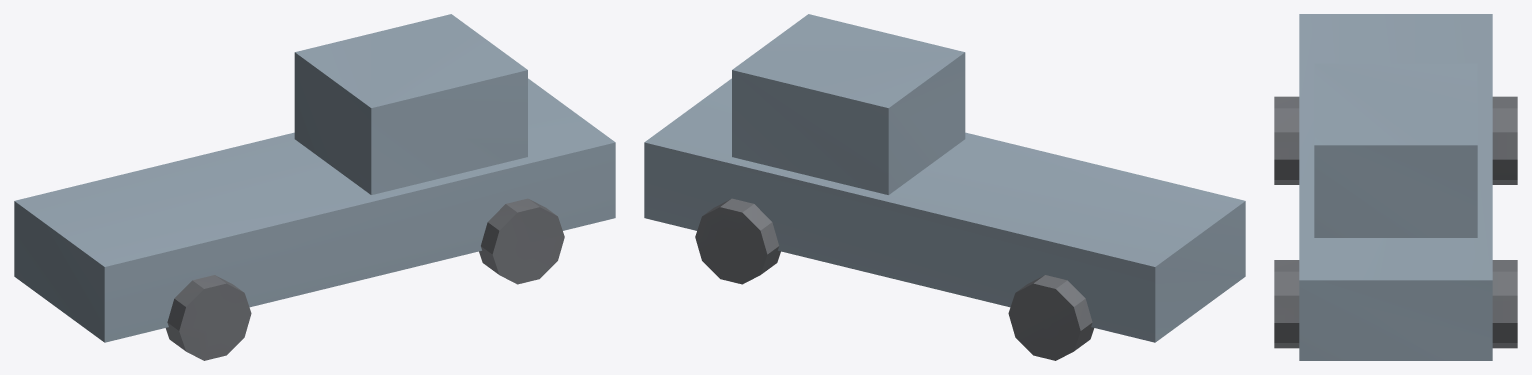
The model's file is road_vehicle-05.glb.
The picture shows the model from 3 angles, left to right: view 1: azimuth 30°, elevation 25°; view 2: azimuth 150°, elevation 25°; view 3: azimuth 270°, elevation 25°; orthographic projection. The views are drawn at different scales.
Visible parts, largest first — view 1: world; view 2: world; view 3: world.
Part boxes in pixels (x1,y1,x2,y2): world: (14, 14, 615, 360); world: (644, 14, 1245, 360); world: (1274, 14, 1517, 360).
Bounding box in the file's own units: 2.12 × 0.7677 × 0.82.
